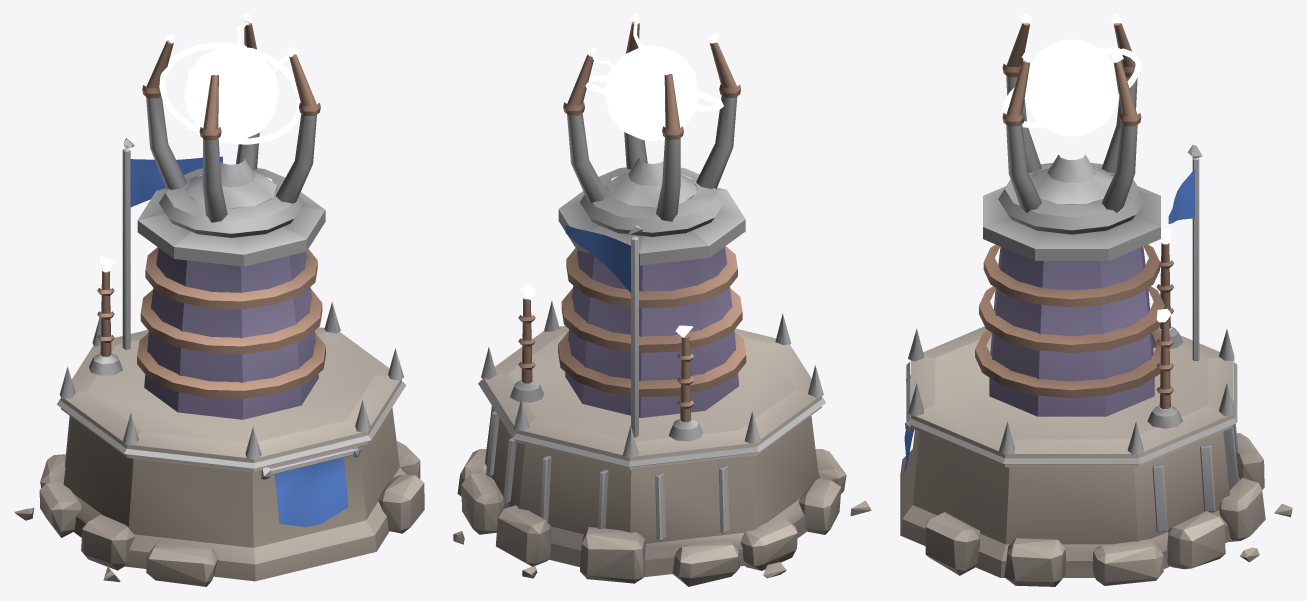
File: spark_0_4.glb
3 renders of one model, left to right at view 1: azimuth 30°, elevation 25°; view 2: azimuth 150°, elevation 25°; view 3: azimuth 270°, elevation 25°, orthographic.
Parts seen in each view (by area): view 1: Tower, Turret; view 2: Tower, Turret; view 3: Tower, Turret.
Part boxes in pixels (box(x1,y1,x2,y2)): Tower: box(14, 138, 424, 586); Turret: box(142, 14, 320, 237); Tower: box(453, 180, 871, 586); Turret: box(563, 14, 740, 236); Tower: box(900, 145, 1292, 586); Turret: box(998, 14, 1145, 234).
Size of the model in its own units: 3.56 by 4.73 by 3.51.
